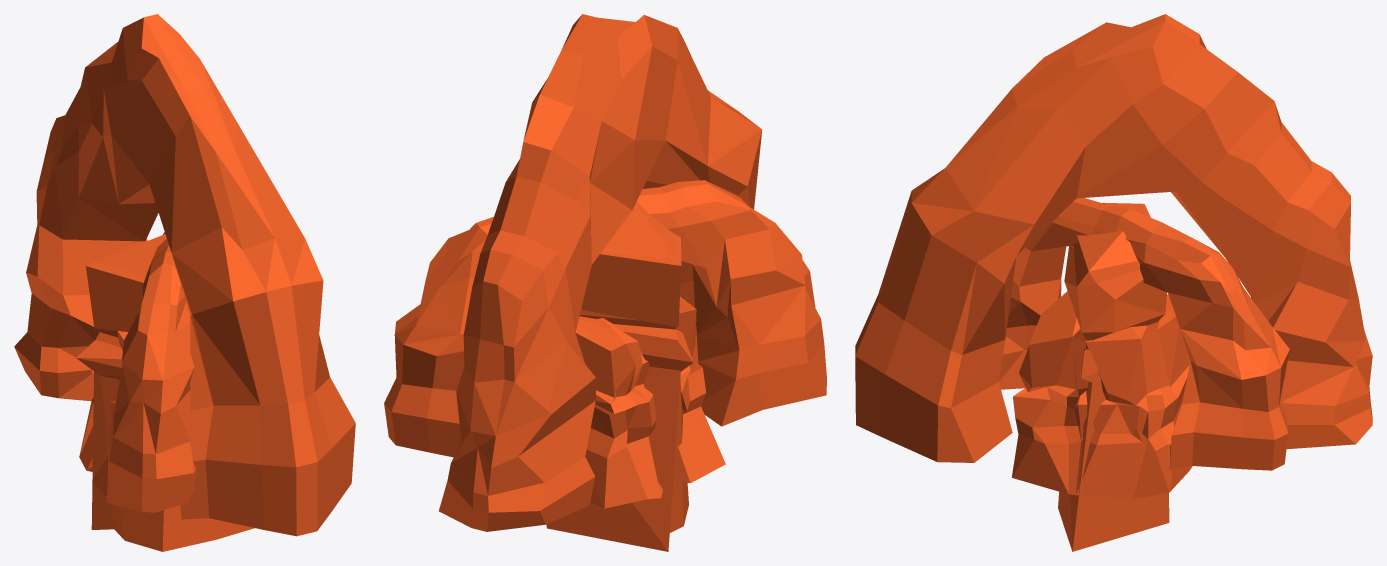
File: PropOmgevingExtraStenen.FBX
3 views of the same model, side by side, from view 1: azimuth 30°, elevation 25°; view 2: azimuth 150°, elevation 25°; view 3: azimuth 270°, elevation 25° (orthographic). The views are drawn at different scales.
Visible parts, largest first — view 1: Object008, Object009, Object010, Object011; view 2: Object008, Object009, Object010, Object011; view 3: Object008, Object009, Object011, Object010.
Boxes of the visible parts, left/top/right/bottom form: Object008: left=14, top=14, right=355, bottom=536; Object009: left=107, top=232, right=196, bottom=512; Object010: left=76, top=234, right=254, bottom=551; Object011: left=79, top=331, right=128, bottom=497; Object008: left=439, top=14, right=762, bottom=531; Object009: left=384, top=180, right=826, bottom=457; Object010: left=546, top=201, right=693, bottom=551; Object011: left=575, top=296, right=725, bottom=508; Object008: left=855, top=14, right=1372, bottom=462; Object009: left=999, top=198, right=1289, bottom=470; Object011: left=1011, top=291, right=1192, bottom=498; Object010: left=1058, top=202, right=1169, bottom=551.
Bounding box in the file's own units: 20248 × 34459 × 32958.
